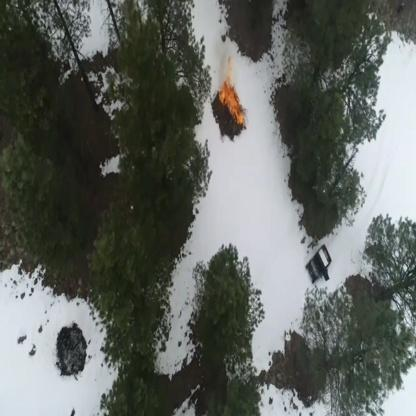Fire: (217, 55, 245, 126)
